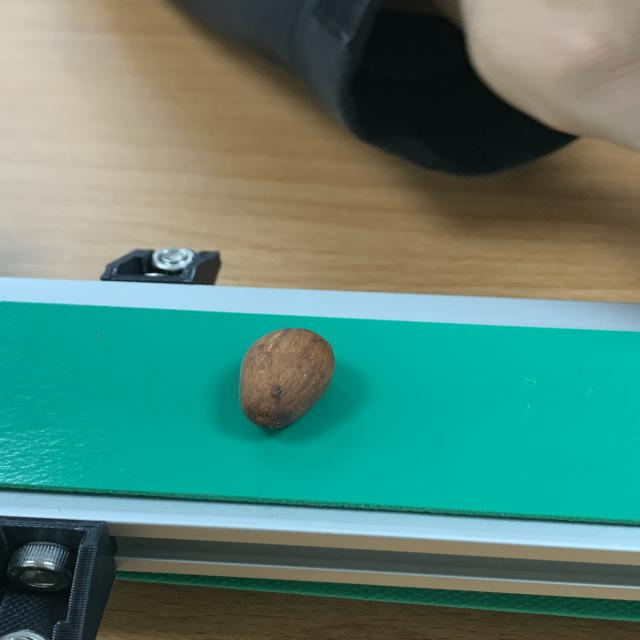Fine_cocoabeans: (130, 316, 397, 454)
